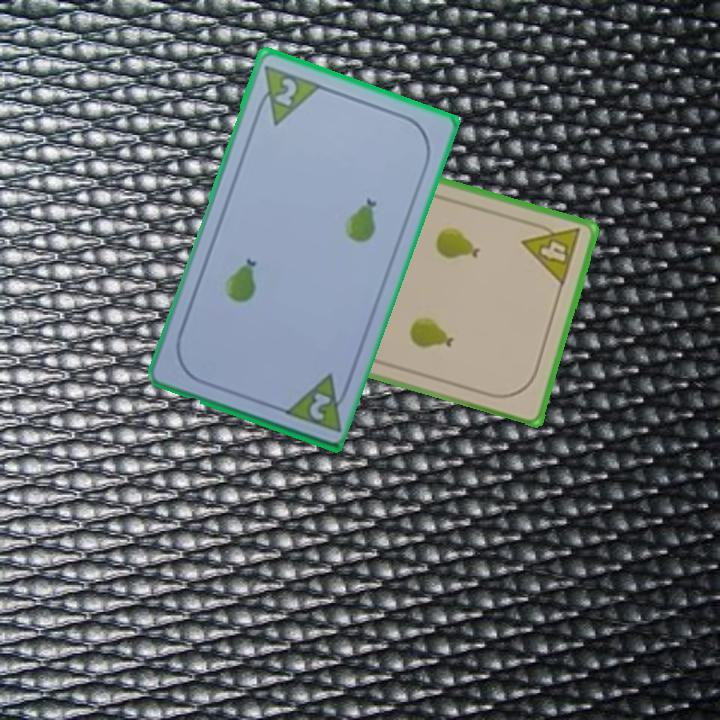2p: (270, 73, 300, 109), (305, 388, 334, 423)
4p: (518, 216, 584, 289)
